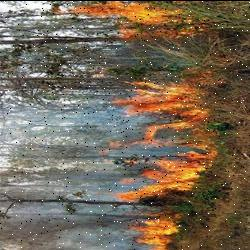fire: (63, 0, 219, 250)
